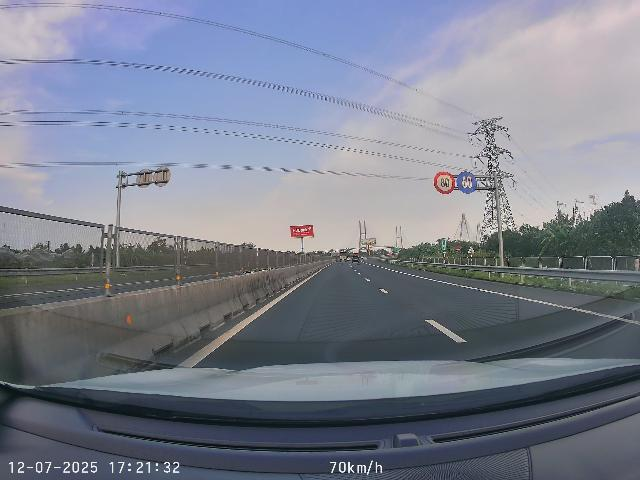127-toc-do-toi-da-80: (434, 171, 456, 194)
306-toc-do-toi-thieu-60: (456, 171, 477, 194)
